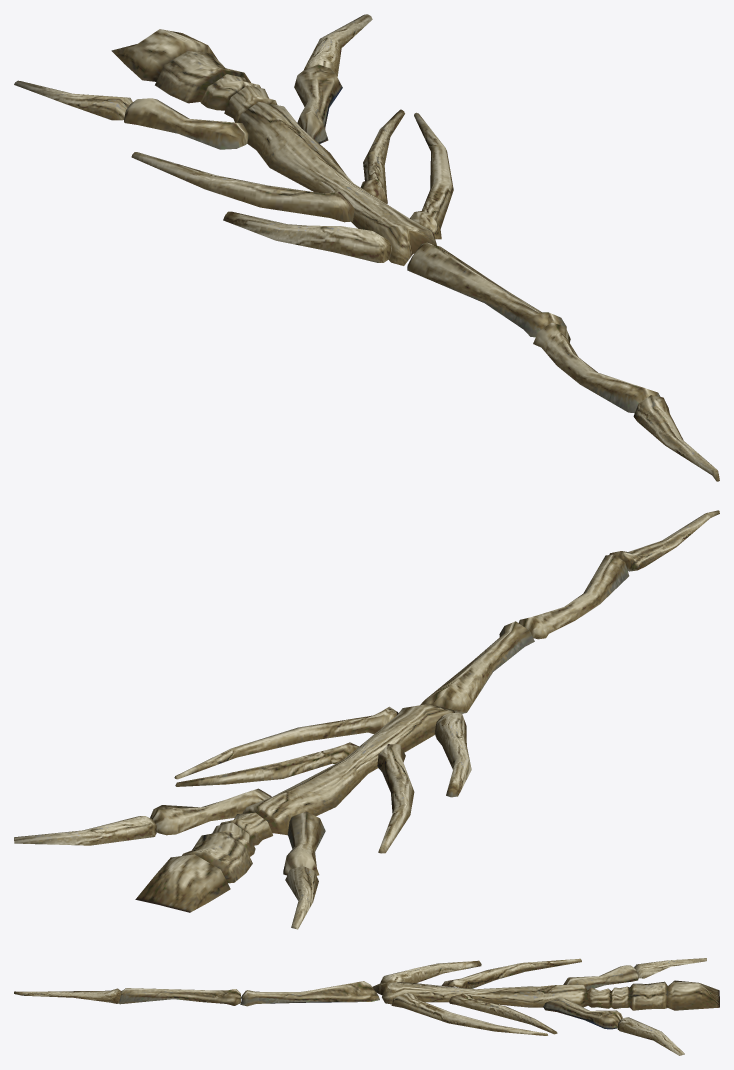
File: 7002_Item_gutou_1.FBX
3 views of the same model, one above another, from view 1: azimuth 30°, elevation 25°; view 2: azimuth 150°, elevation 25°; view 3: azimuth 270°, elevation 25° (orthographic). The views are drawn at different scales.
Visible parts, largest first — view 1: 7002_Item_gutou_1; view 2: 7002_Item_gutou_1; view 3: 7002_Item_gutou_1.
Boxes of the visible parts, box(x1,y1,x2,y2) form: 7002_Item_gutou_1: box(14, 14, 719, 481); 7002_Item_gutou_1: box(14, 510, 719, 929); 7002_Item_gutou_1: box(14, 958, 719, 1055).
Size of the model in its own units: 129 by 395 by 11.39.
Materials: 1 (1 with a texture image).
